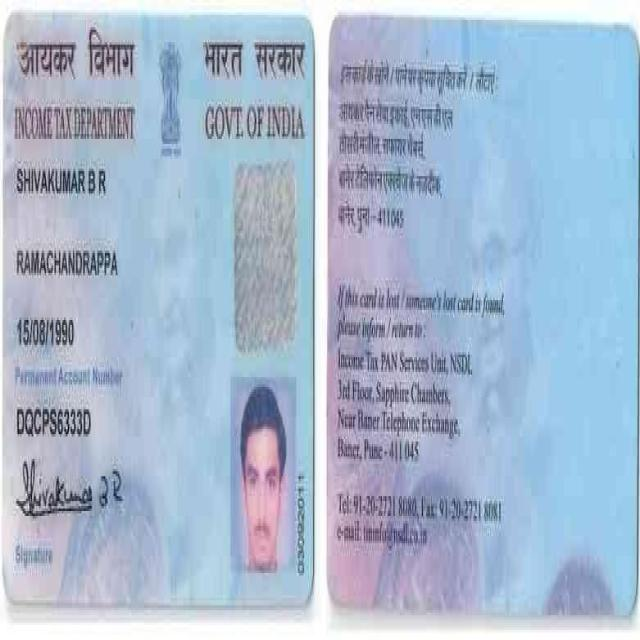pan_card: (5, 8, 312, 594), (330, 23, 634, 608)
